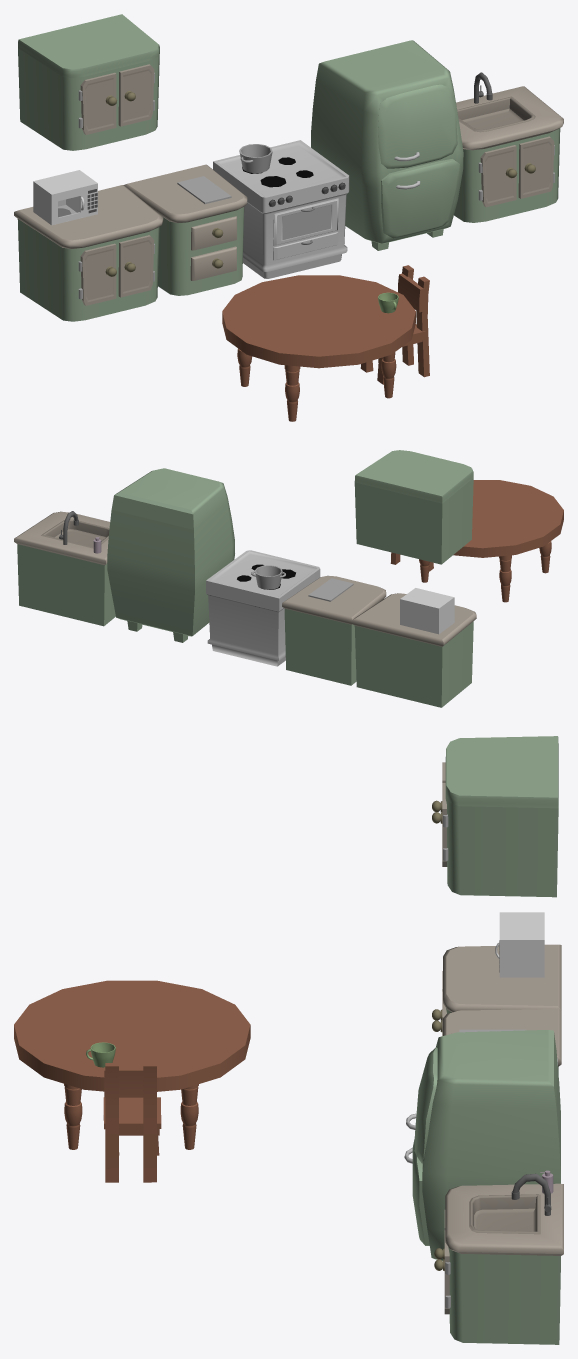
The model's file is Kitchen Assets.fbx.
3 views of the same model, one above another, from view 1: azimuth 30°, elevation 25°; view 2: azimuth 150°, elevation 25°; view 3: azimuth 270°, elevation 25° (orthographic). The views are drawn at different scales.
Parts seen in each view (by area): view 1: polySurface12, polySurface36, pCylinder34, polySurface33, pCylinder28, polySurface38, pasted__pCube15, polySurface37, pCube27, pCube28, polySurface8; view 2: polySurface12, polySurface36, polySurface33, polySurface38, pCylinder28, pCylinder34, pasted__pCube15, polySurface37, polySurface8, pCube28; view 3: polySurface12, pCylinder34, polySurface38, polySurface36, polySurface33, pCube27, polySurface37, pasted__pCube15.
Part boxes in pixels (left/top/right/bottom): polySurface12: left=311, top=40, right=463, bottom=250; polySurface36: left=18, top=14, right=159, bottom=150; pCylinder34: left=222, top=275, right=415, bottom=421; polySurface33: left=14, top=185, right=163, bottom=321; pCylinder28: left=213, top=140, right=349, bottom=278; polySurface38: left=454, top=72, right=563, bottom=222; pasted__pCube15: left=124, top=164, right=247, bottom=295; polySurface37: left=33, top=170, right=97, bottom=225; pCube27: left=360, top=265, right=429, bottom=384; pCube28: left=177, top=176, right=231, bottom=204; polySurface8: left=239, top=144, right=272, bottom=173; polySurface12: left=107, top=468, right=234, bottom=642; polySurface36: left=354, top=450, right=473, bottom=564; polySurface33: left=351, top=593, right=476, bottom=707; polySurface38: left=14, top=511, right=115, bottom=626; pCylinder28: left=206, top=550, right=320, bottom=666; pCylinder34: left=419, top=480, right=563, bottom=602; pasted__pCube15: left=282, top=575, right=386, bottom=685; polySurface37: left=400, top=588, right=454, bottom=634; polySurface8: left=251, top=565, right=285, bottom=589; pCube28: left=308, top=578, right=353, bottom=601; polySurface12: left=404, top=1030, right=560, bottom=1260; pCylinder34: left=14, top=980, right=250, bottom=1149; polySurface38: left=434, top=1173, right=563, bottom=1344; polySurface36: left=432, top=736, right=558, bottom=897; polySurface33: left=432, top=944, right=561, bottom=1035; pCube27: left=103, top=1062, right=161, bottom=1182; polySurface37: left=495, top=912, right=544, bottom=977; pasted__pCube15: left=443, top=1009, right=561, bottom=1073.
Size of the model in its own units: 3.53 by 1.69 by 2.69.
